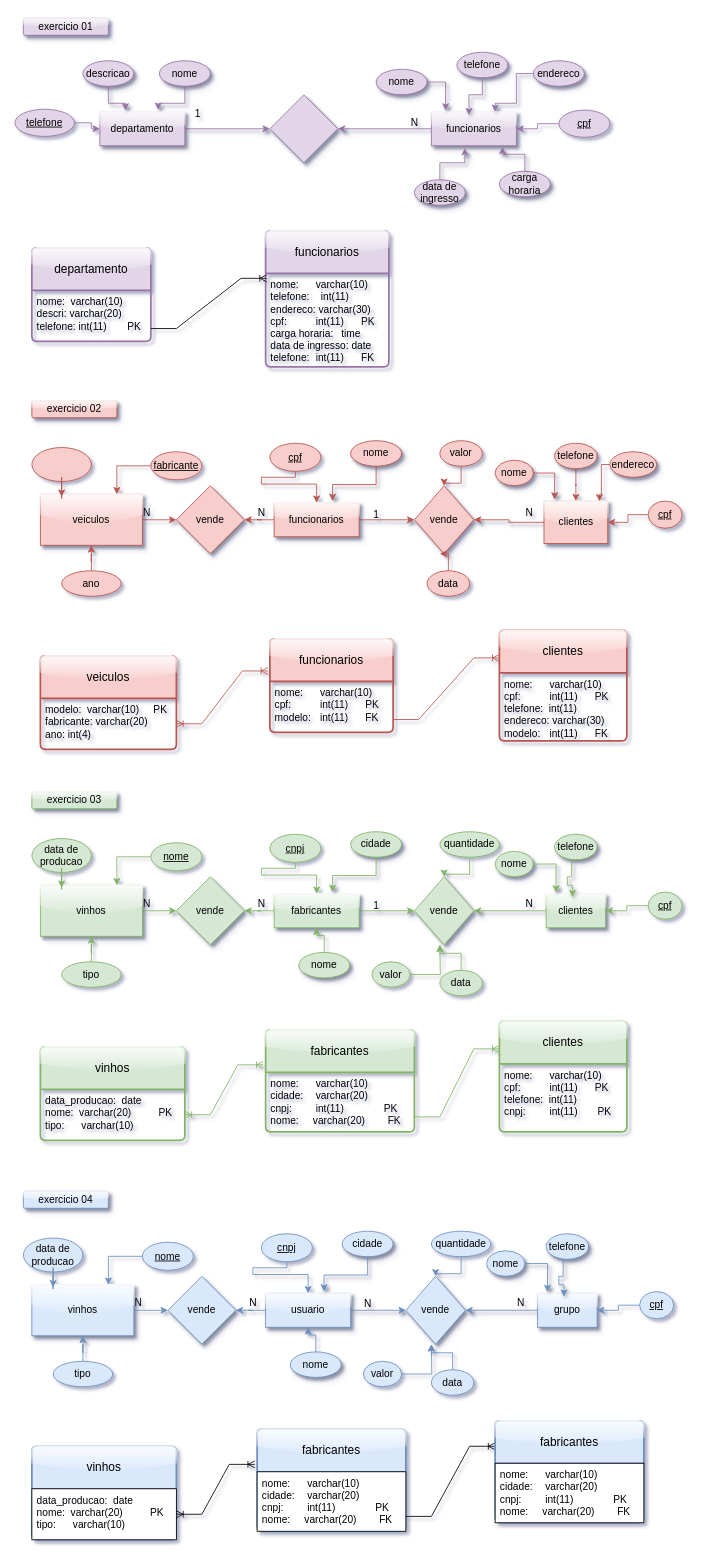
Image size: 702x1561. Some labels were removed from this diagram. The centre of each missing label's shape, as x and y in pixels:
"modelo" belongs at [61,464].
"possui" belongs at [304,130].
